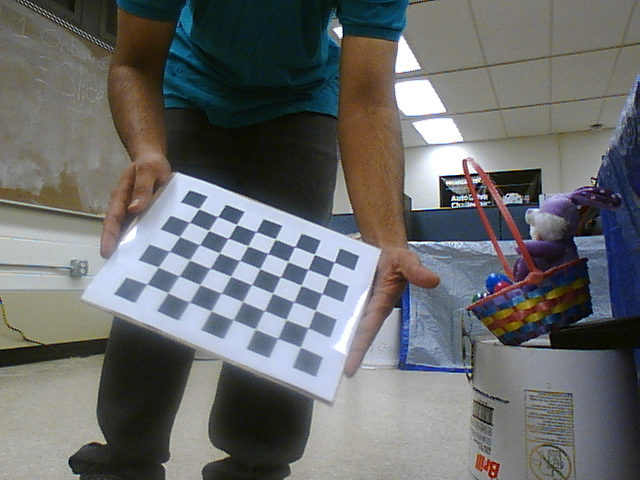bunny: (453, 153, 612, 349)
